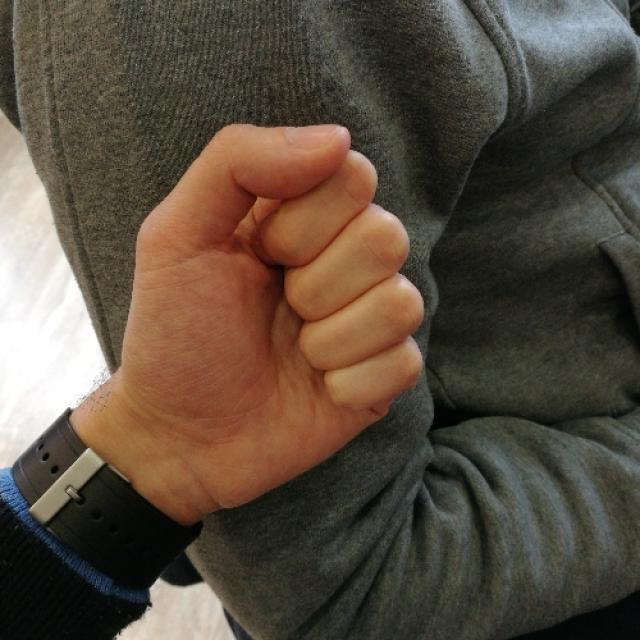fist: (113, 118, 422, 506)
